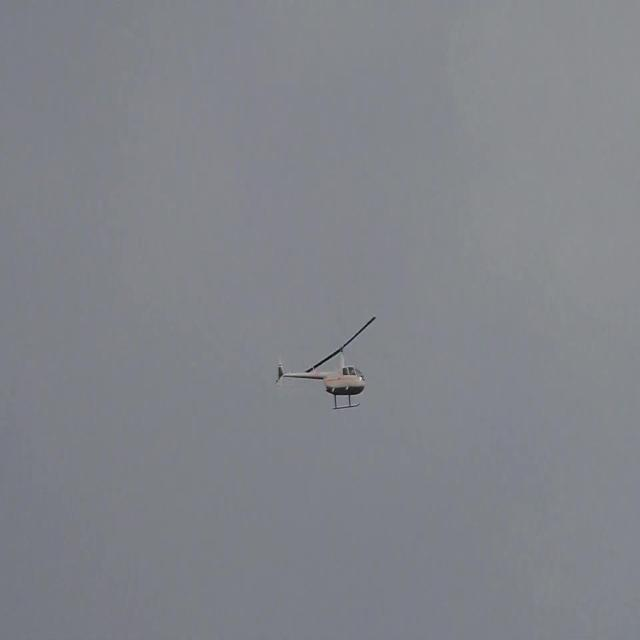CIV_HELO: (276, 348, 366, 411)
